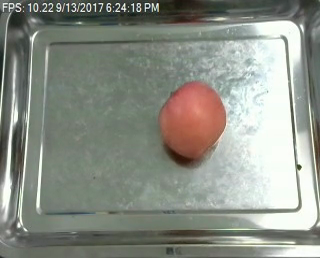Apple: (155, 78, 229, 162)
